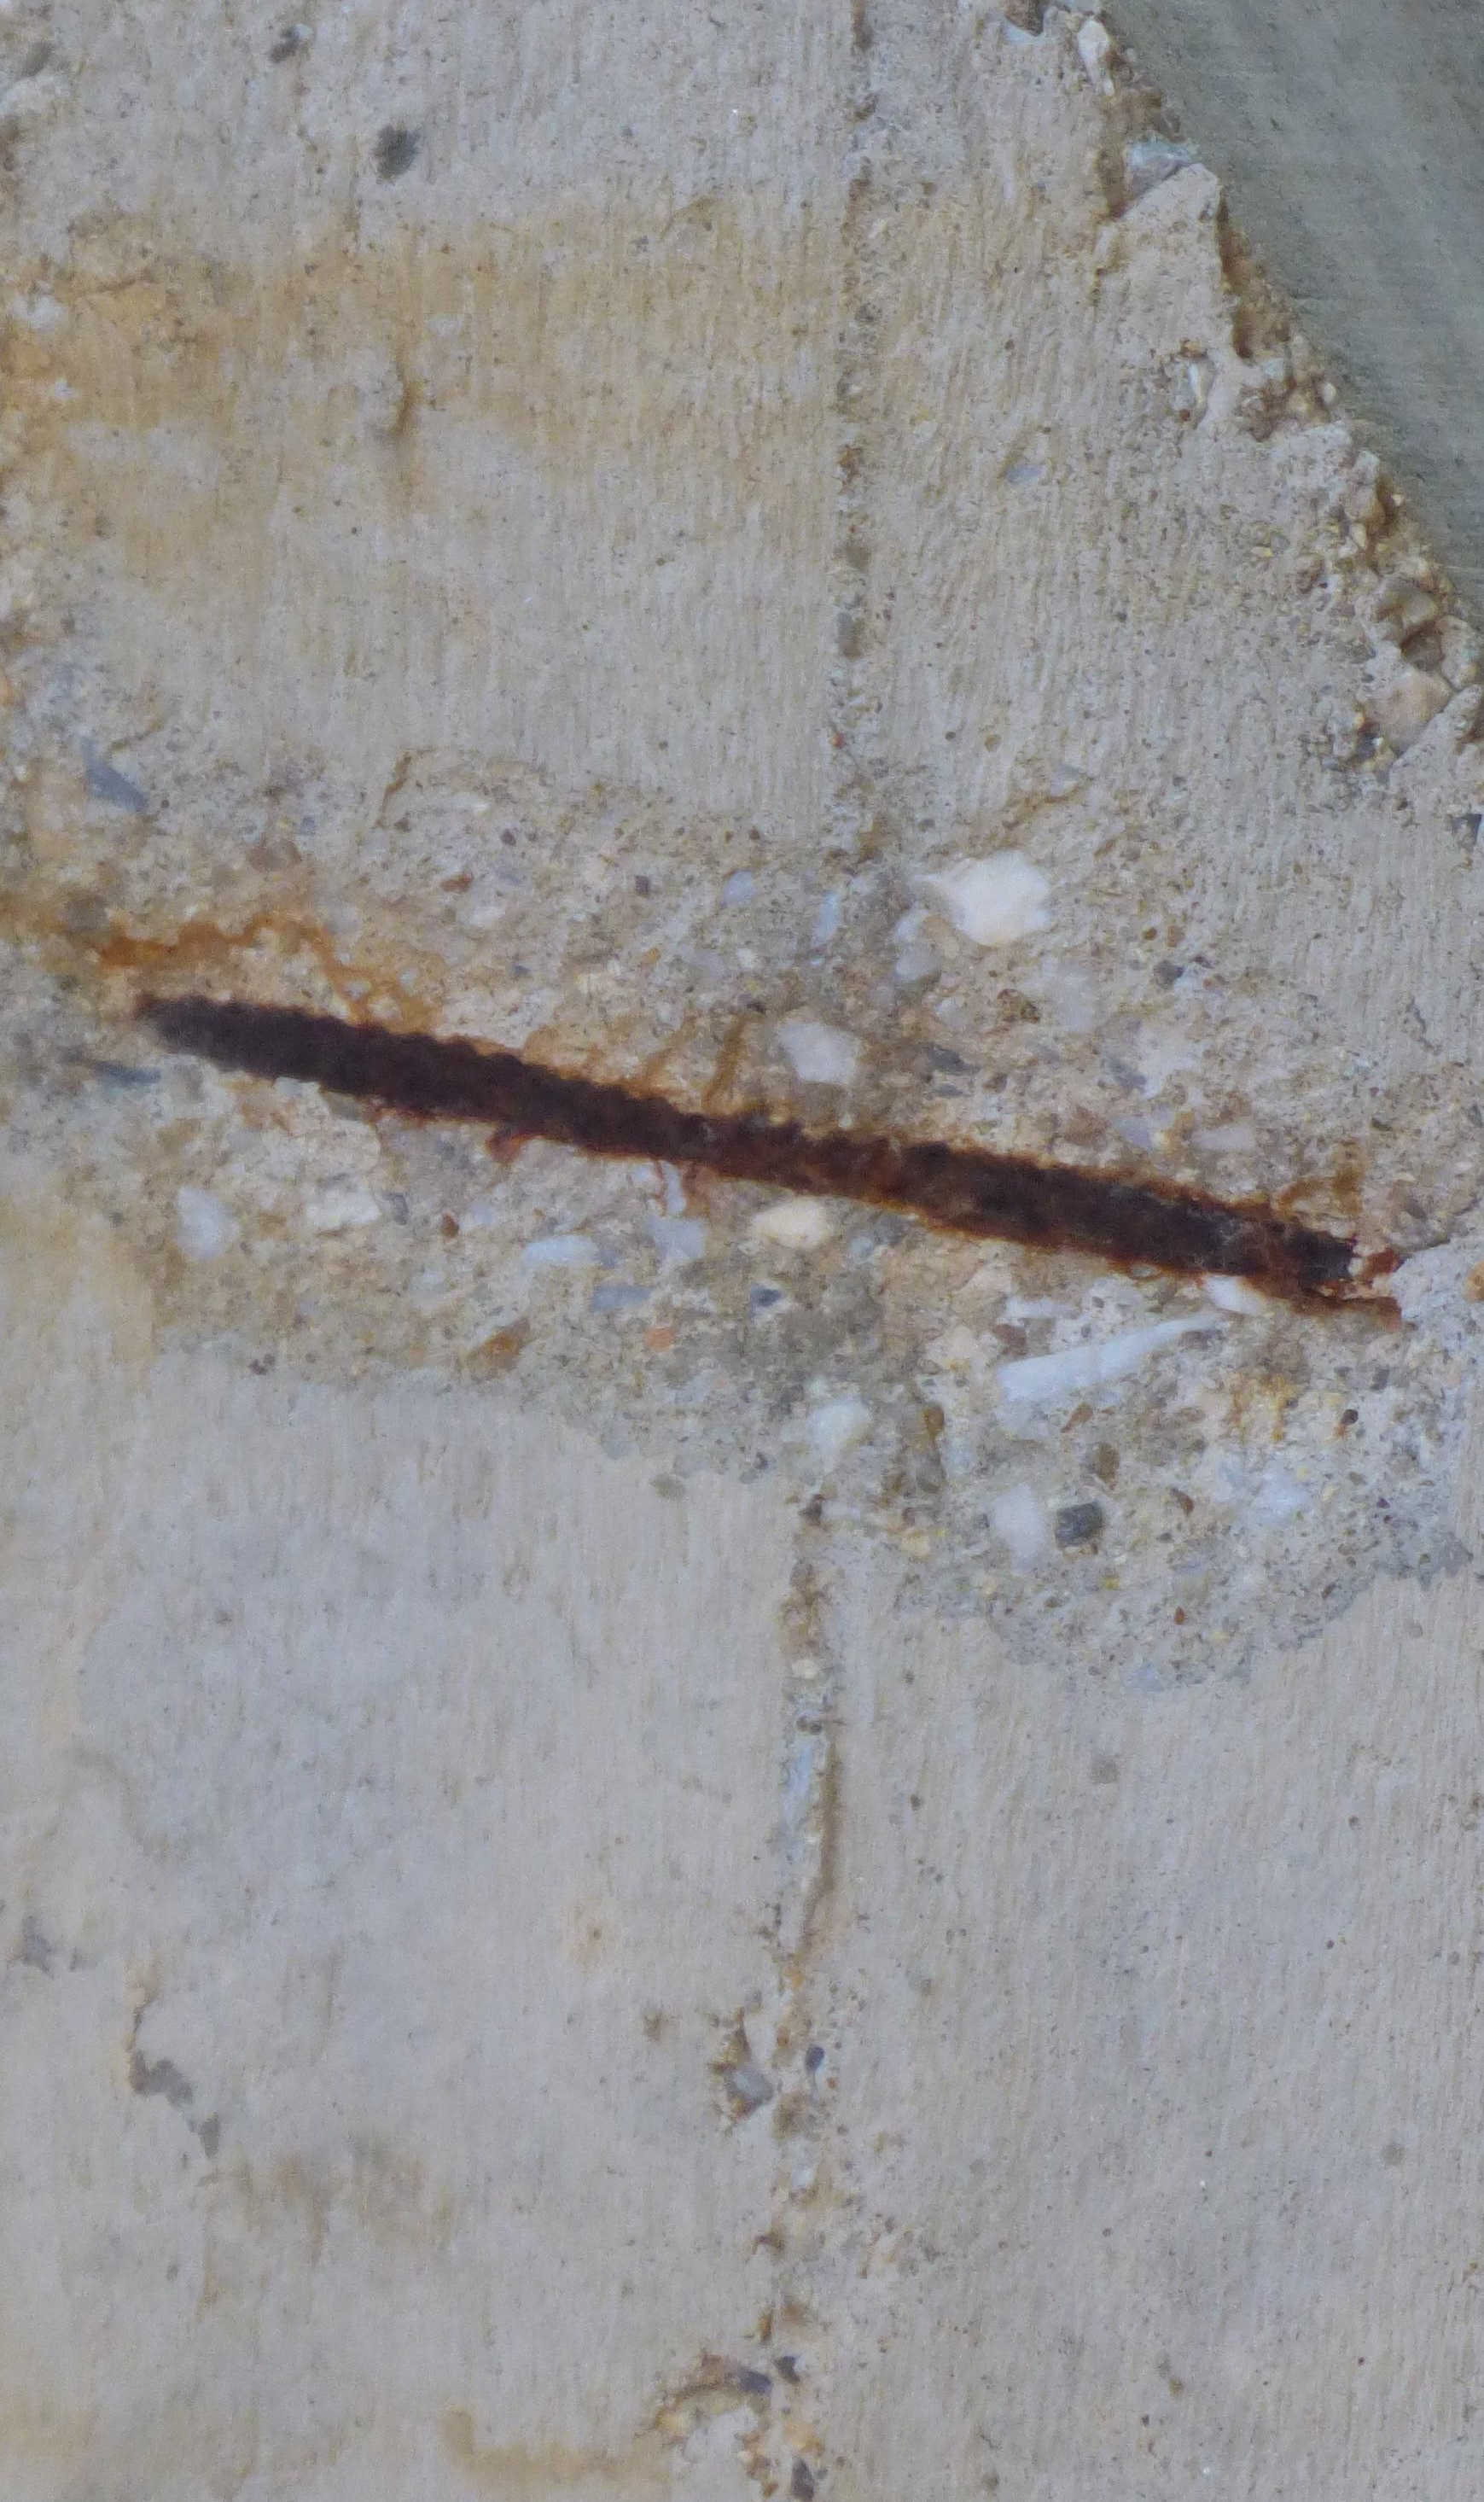Exposed reinforcement: (125, 989, 1408, 1325)
Spalling: (0, 463, 1484, 1696)
